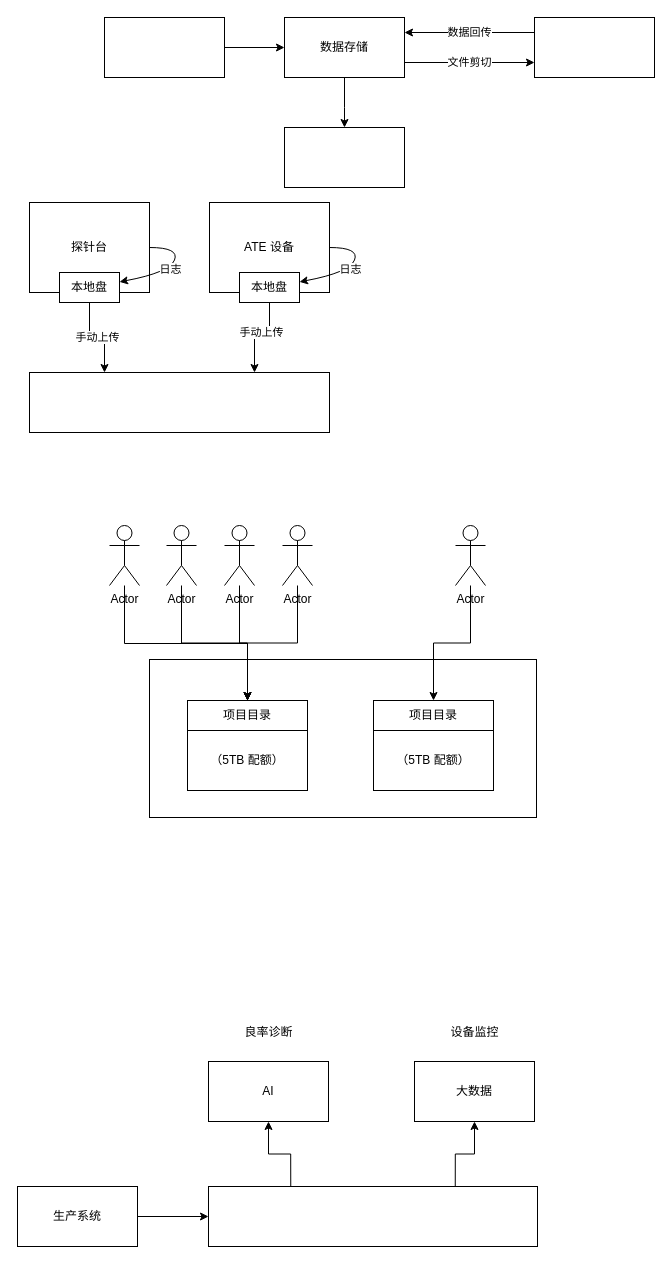
This 672x1264 diagram has some shape labels left out. Each missing label, with the centre of its shape:
"人工检测" belongs at [594,47].
"传统 NAS" belongs at [179,402].
"存储系统" belongs at [373,1216].
"数据生产端 （高清摄像头）" belongs at [164,47].
"缺陷分析 （AOI检测设备）" belongs at [344,157].
